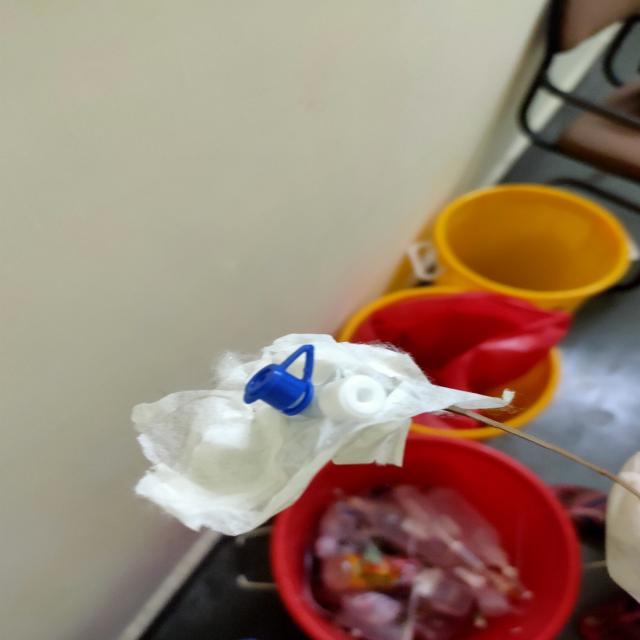B3: (244, 344, 318, 422)
